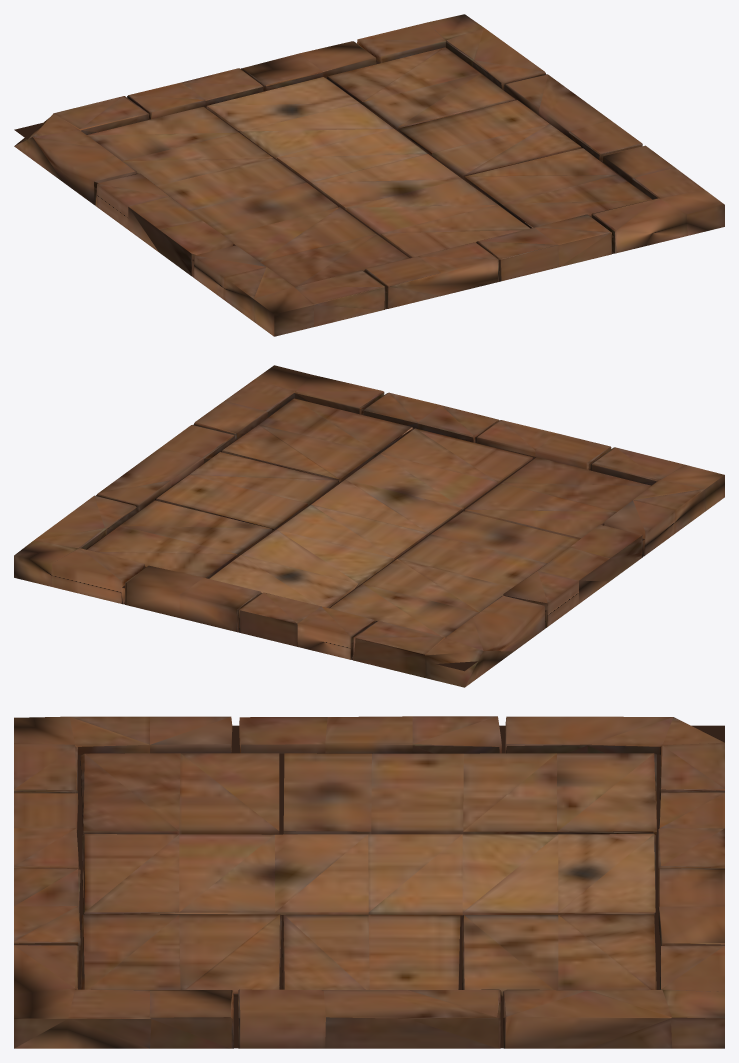
Rendered from floor-wood.lod1.glb.
3 renders of one model, top to bottom at view 1: azimuth 30°, elevation 25°; view 2: azimuth 150°, elevation 25°; view 3: azimuth 270°, elevation 25°, orthographic. The views are drawn at different scales.
Size of the model in its own units: 2 by 0.0997 by 2.
1 material, 1 textured.
